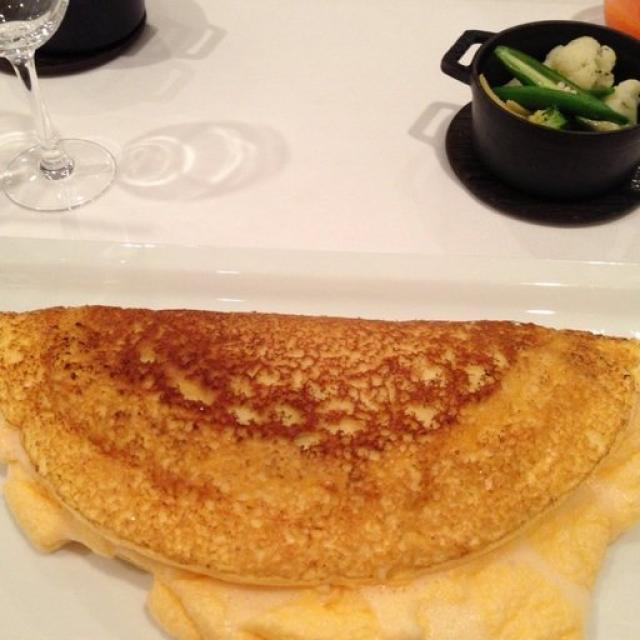telur_ayam_dadar: (1, 302, 640, 638)
